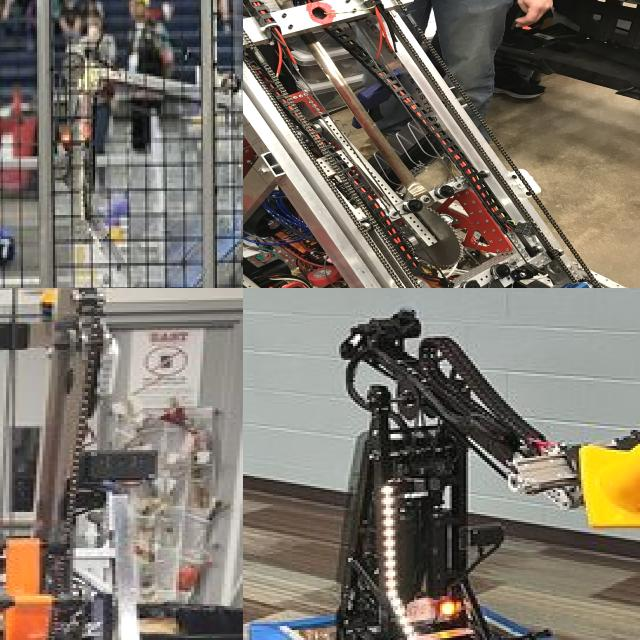FRC-Robots: (243, 288, 640, 640), (243, 0, 640, 288), (0, 288, 243, 640), (28, 33, 243, 288)
